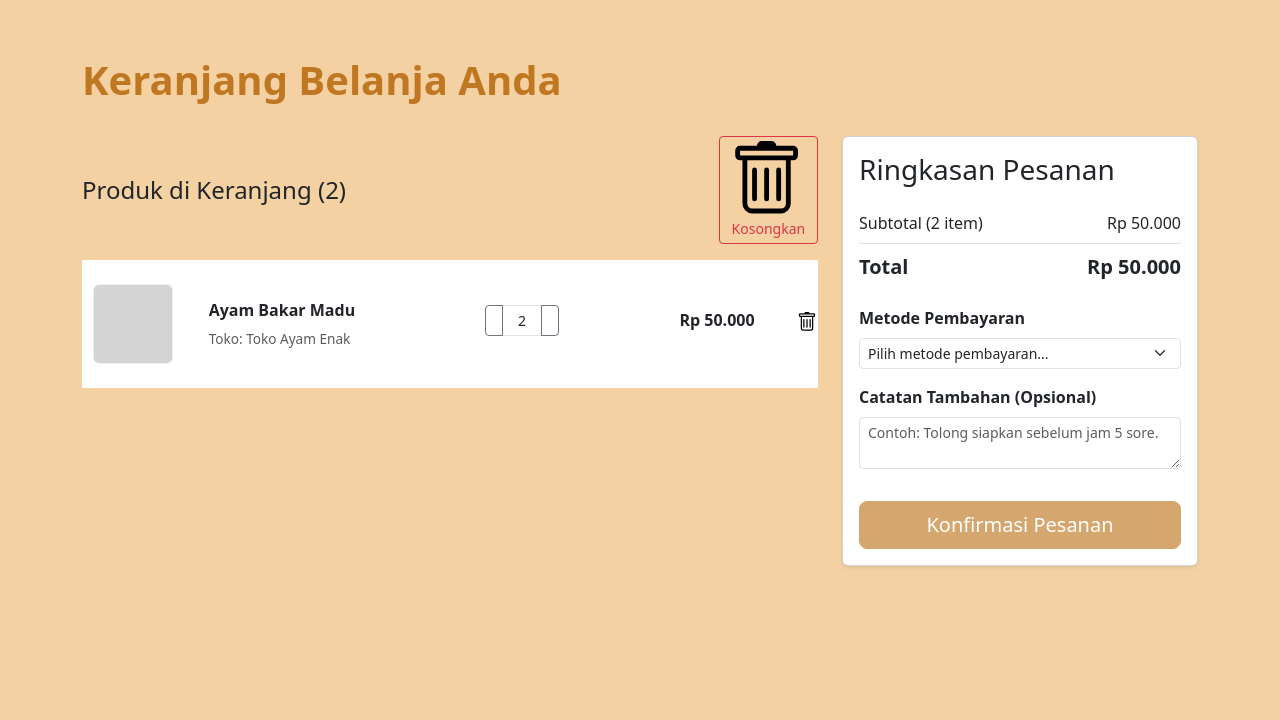
Test: Alur Checkout di Halaman Keranjang › menampilkan pesan error jika API gagal membuat pesanan
Select "Pembayaran Online" in the dropdown labelled "Metode Pembayaran": (1020, 353) [859,338,1181,369]
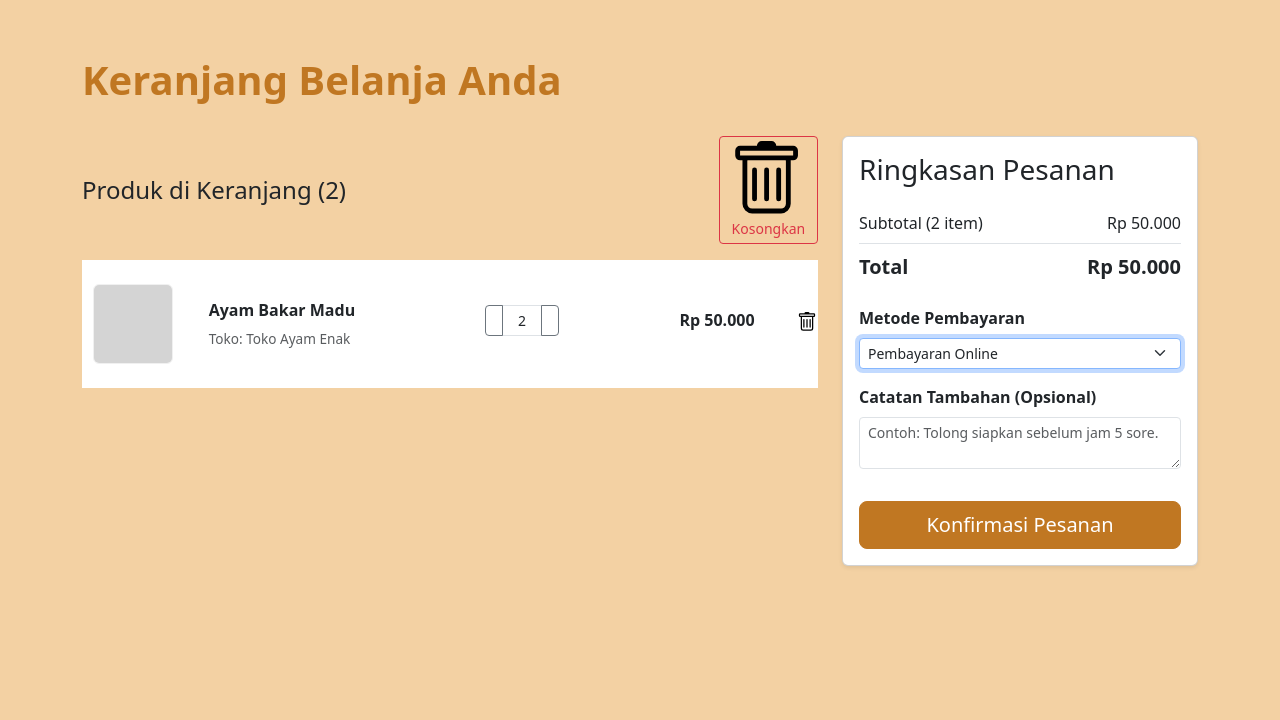
Click the button "Konfirmasi Pesanan": (1020, 525) [859,501,1181,549]
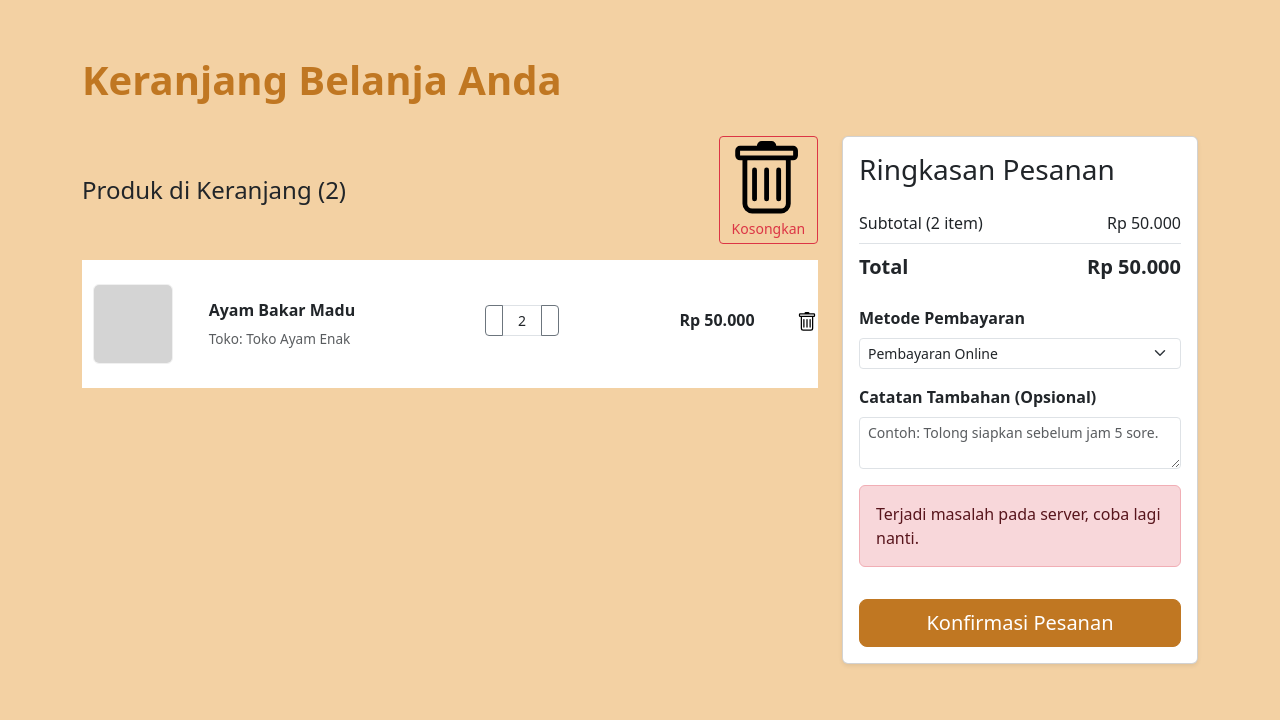
Expected: the message reads "Terjadi masalah pada server, coba lagi nanti.", [876,503,1160,549]
